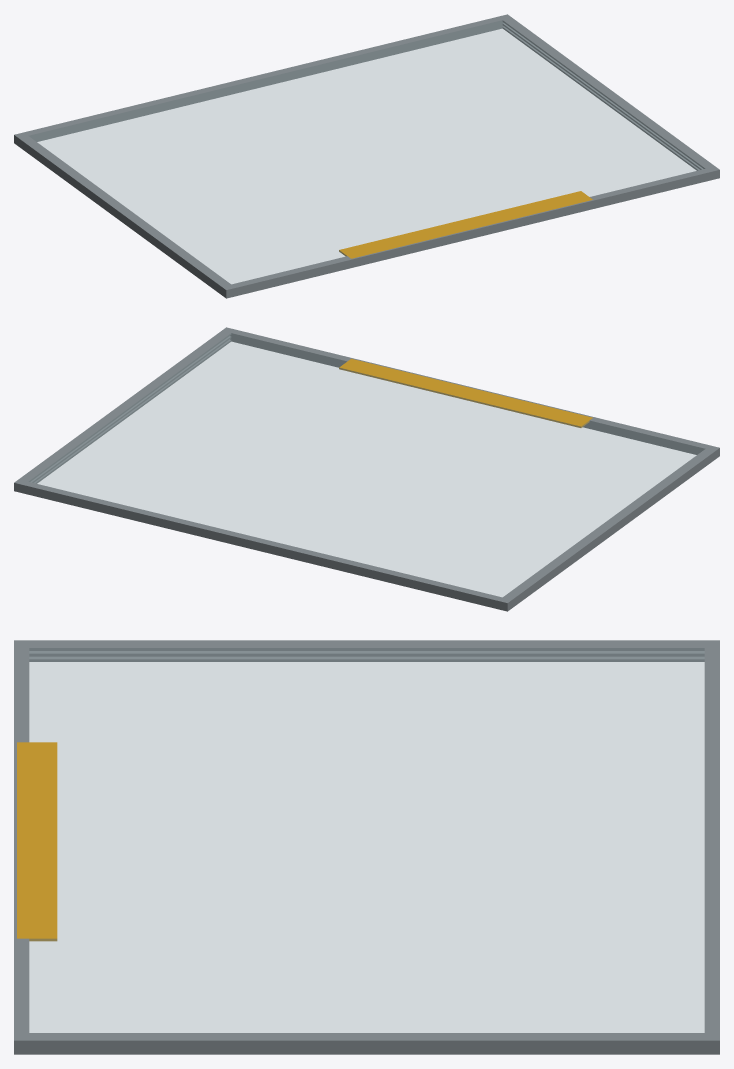
The model's file is reinforced_glass_sheet.glb.
3 views of the same model, one above another, from view 1: azimuth 30°, elevation 25°; view 2: azimuth 150°, elevation 25°; view 3: azimuth 270°, elevation 25° (orthographic). The views are drawn at different scales.
Visible parts, largest first — view 1: reinforced_glass_sheet:compound; view 2: reinforced_glass_sheet:compound; view 3: reinforced_glass_sheet:compound.
Boxes of the visible parts, box(x1,y1,x2,y2) form: reinforced_glass_sheet:compound: box(14, 14, 719, 298); reinforced_glass_sheet:compound: box(14, 327, 719, 611); reinforced_glass_sheet:compound: box(14, 640, 719, 1054).
Size of the model in its own units: 1.22 by 0.02 by 0.912.
